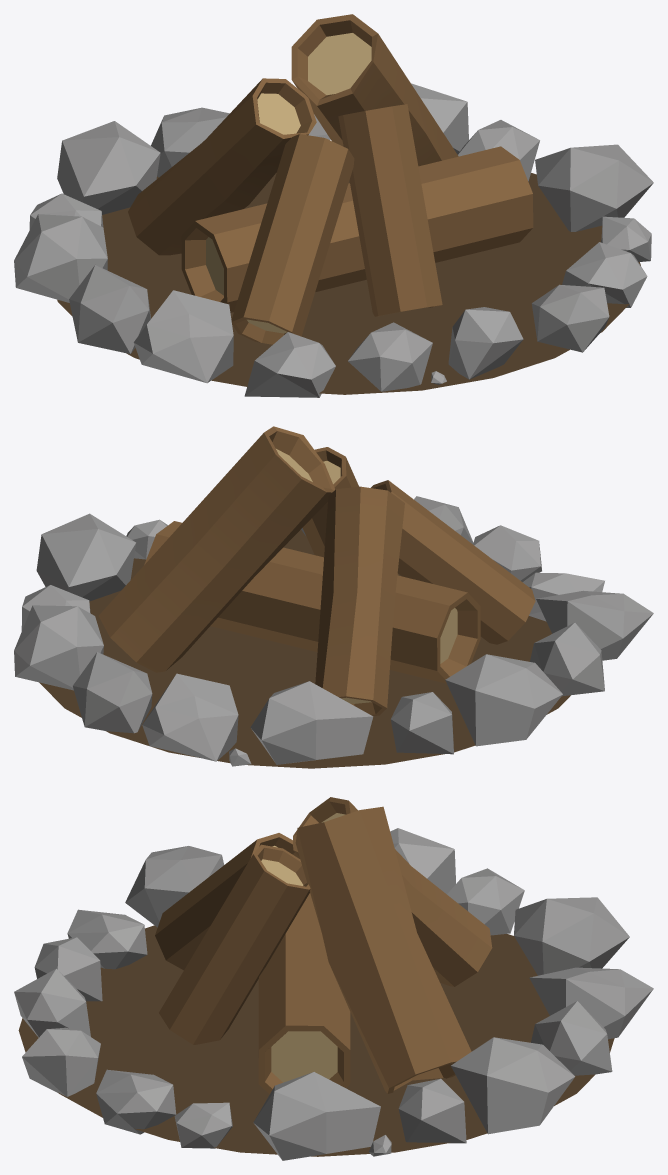
File: fire.fbx
The picture shows the model from 3 angles, top to bottom: view 1: azimuth 30°, elevation 25°; view 2: azimuth 150°, elevation 25°; view 3: azimuth 270°, elevation 25°; orthographic projection. The views are drawn at different scales.
Parts seen in each view (by area): view 1: fire; view 2: fire; view 3: fire.
Boxes of the visible parts, left/top/right/bottom form: fire: left=14, top=14, right=653, bottom=397; fire: left=14, top=426, right=653, bottom=768; fire: left=14, top=797, right=653, bottom=1160.
Bounding box in the file's own units: 8.75 × 3.57 × 8.38.
